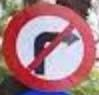Cam re: (4, 6, 95, 87)
